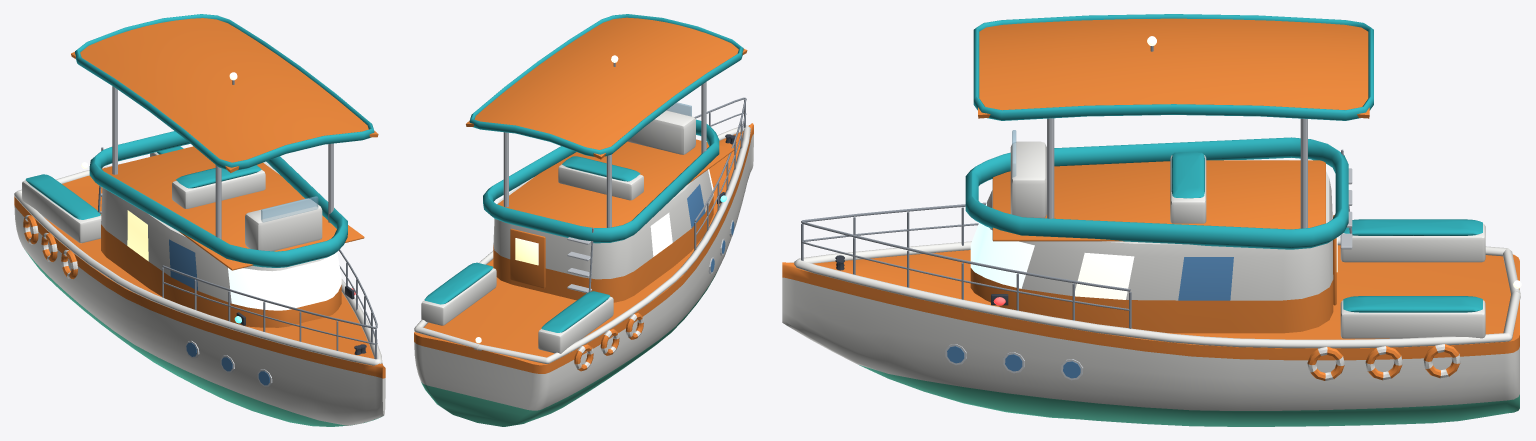
Rendered from barco_passeio_laranja.glb.
3 views of the same model, side by side, from view 1: azimuth 30°, elevation 25°; view 2: azimuth 150°, elevation 25°; view 3: azimuth 270°, elevation 25° (orthographic). The views are drawn at different scales.
Parts seen in each view (by area): view 1: barco_passeio_laranja; view 2: barco_passeio_laranja, porta_casa; view 3: barco_passeio_laranja.
Boxes of the visible parts, x1,y1,x2,y2 form: barco_passeio_laranja: (14, 14, 385, 426); barco_passeio_laranja: (414, 14, 753, 426); porta_casa: (510, 228, 545, 287); barco_passeio_laranja: (782, 14, 1521, 426).
Bounding box in the file's own units: 3.78 × 5.69 × 10.2.
Materials: 8 (1 with a texture image).
